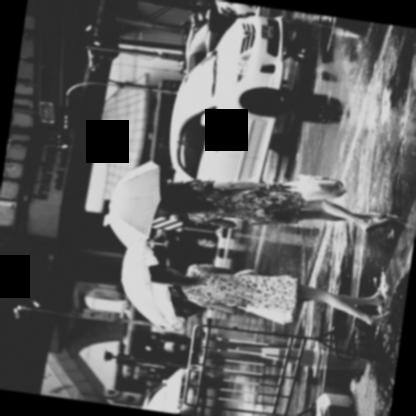handbag: (283, 172, 346, 200), (236, 303, 294, 323), (233, 268, 259, 274)
